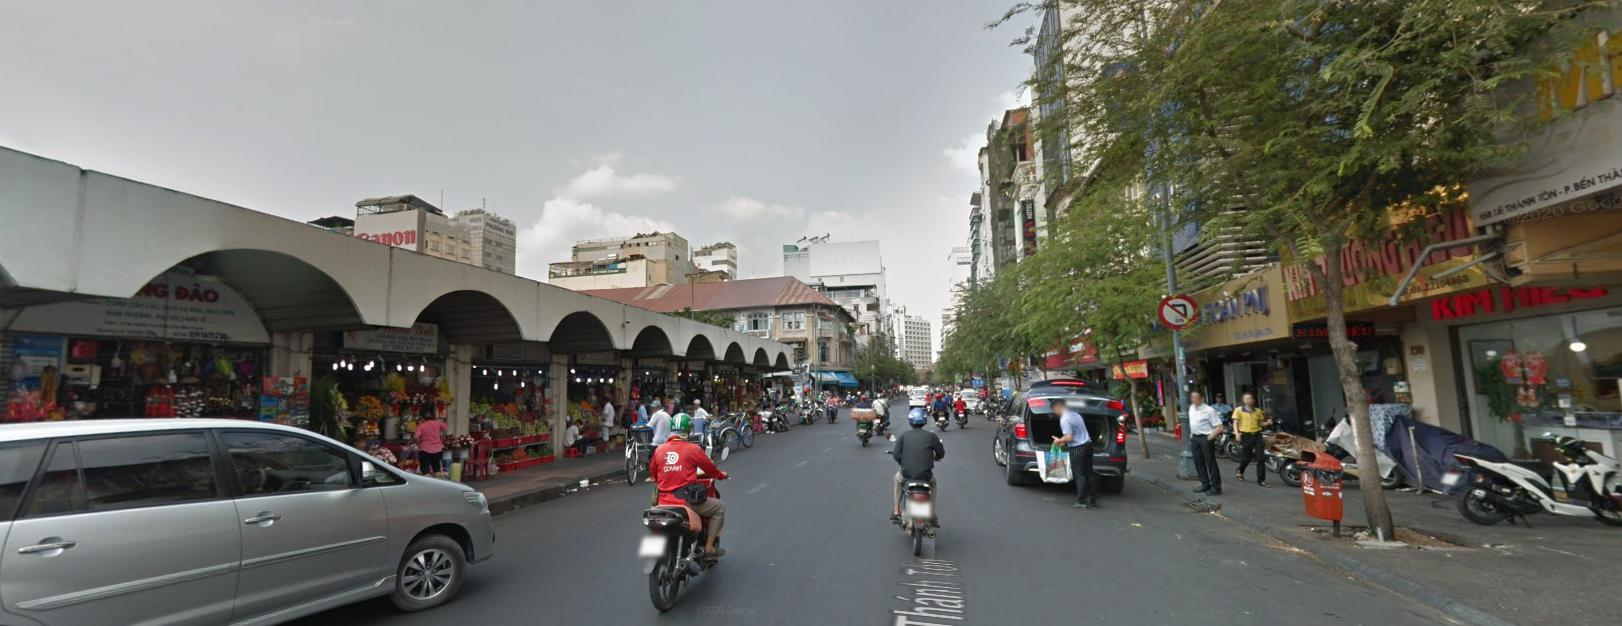Cam re: (1157, 291, 1202, 329)
